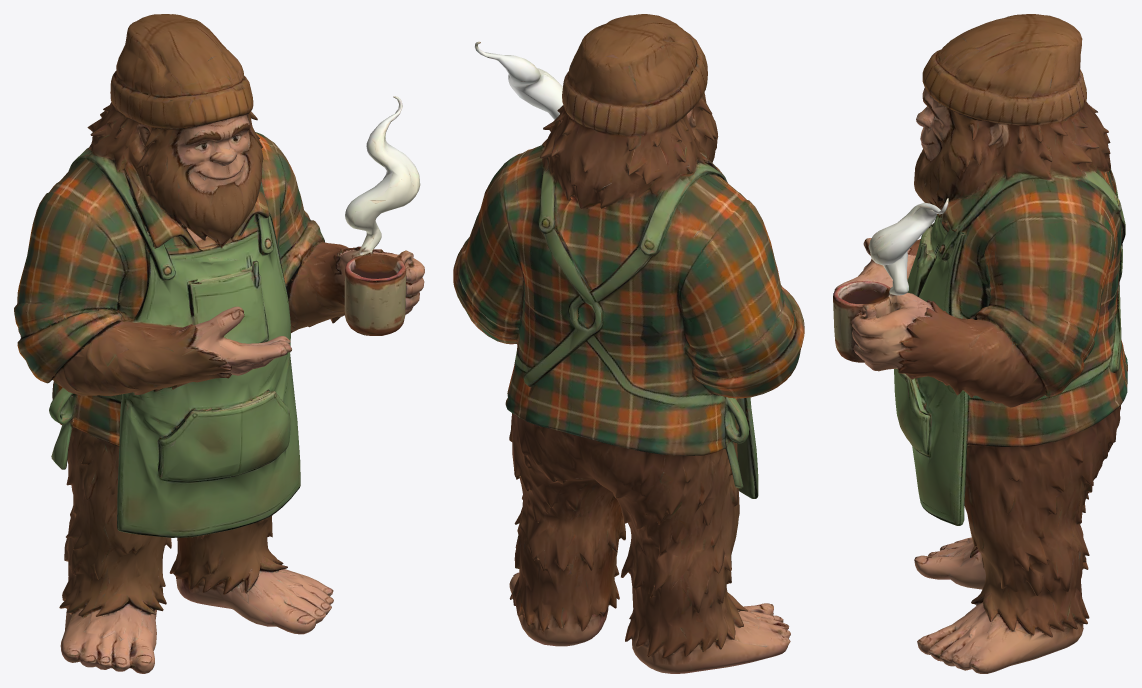
Rendered from char-sasquatch.glb.
The picture shows the model from 3 angles, left to right: view 1: azimuth 30°, elevation 25°; view 2: azimuth 150°, elevation 25°; view 3: azimuth 270°, elevation 25°; orthographic projection. The views are drawn at different scales.
Parts seen in each view (by area): view 1: Mesh_0; view 2: Mesh_0; view 3: Mesh_0.
Part boxes in pixels (bbox=[...]): Mesh_0: bbox=[14, 14, 424, 673]; Mesh_0: bbox=[453, 14, 804, 673]; Mesh_0: bbox=[833, 14, 1127, 673].
Size of the model in its own units: 1.16 by 1.9 by 0.859.
Materials: 1 (1 with a texture image).
